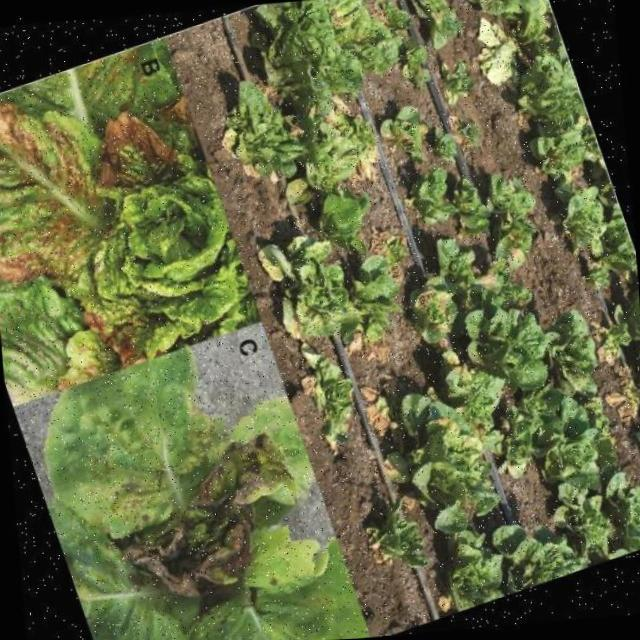Lettuce Mosaic Virus: (0, 50, 249, 393), (42, 379, 345, 640)
